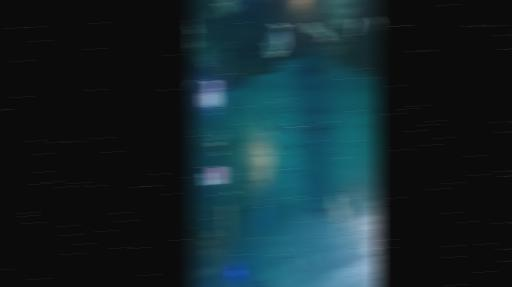Fish: (267, 23, 288, 57), (304, 23, 329, 41), (363, 226, 376, 255), (331, 195, 344, 222), (345, 181, 356, 202), (290, 255, 301, 273), (340, 214, 351, 231), (302, 244, 311, 263), (370, 16, 379, 33), (289, 255, 298, 270), (286, 126, 297, 135), (352, 20, 358, 35), (306, 122, 312, 136), (310, 208, 331, 211), (280, 120, 289, 127), (291, 143, 298, 151), (267, 122, 273, 131), (256, 0, 265, 5), (272, 104, 281, 109), (263, 115, 274, 119), (274, 126, 280, 133), (273, 234, 279, 241), (262, 136, 271, 140), (282, 232, 289, 237), (279, 234, 285, 239), (263, 119, 269, 121), (316, 232, 318, 236)
